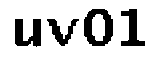0: (82, 4, 115, 51)
1: (117, 7, 147, 52)
u: (12, 17, 43, 52)
v: (44, 17, 80, 51)
